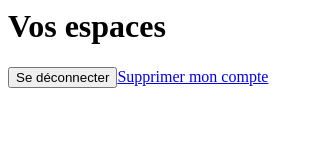
Scenario: déconnexion depuis mes espaces (ADR 0044 §7) › ne relance pas la déconnexion tant que la précédente est en cours
The width and height of the screenshot is (320, 160).
Click the button "Se déconnecter". click: (63, 77)
box: left=8, top=67, right=117, bottom=88
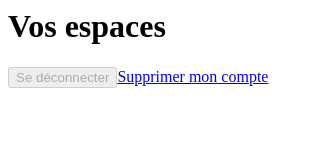
expect the button "Se déconnecter" is disabled: met, box left=8, top=67, right=117, bottom=88
